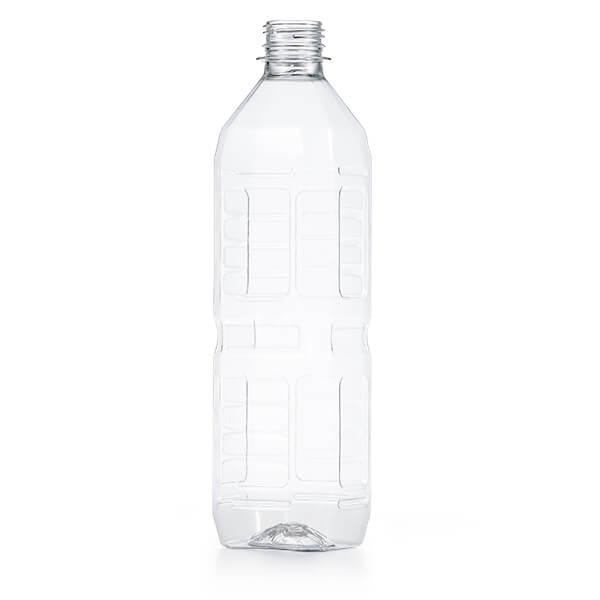bottle: (200, 10, 384, 564)
